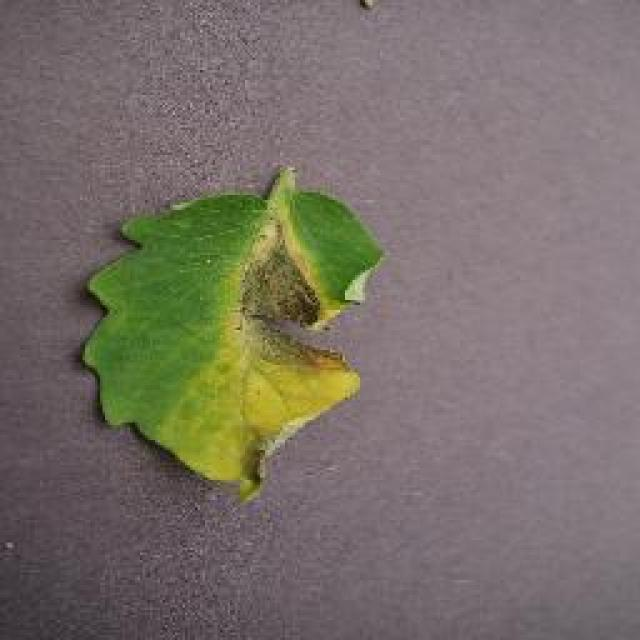Tomato late blight leaf: (75, 188, 385, 500)
